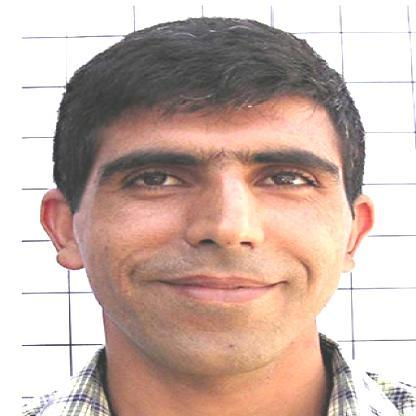without_mask: (55, 115, 347, 359)
